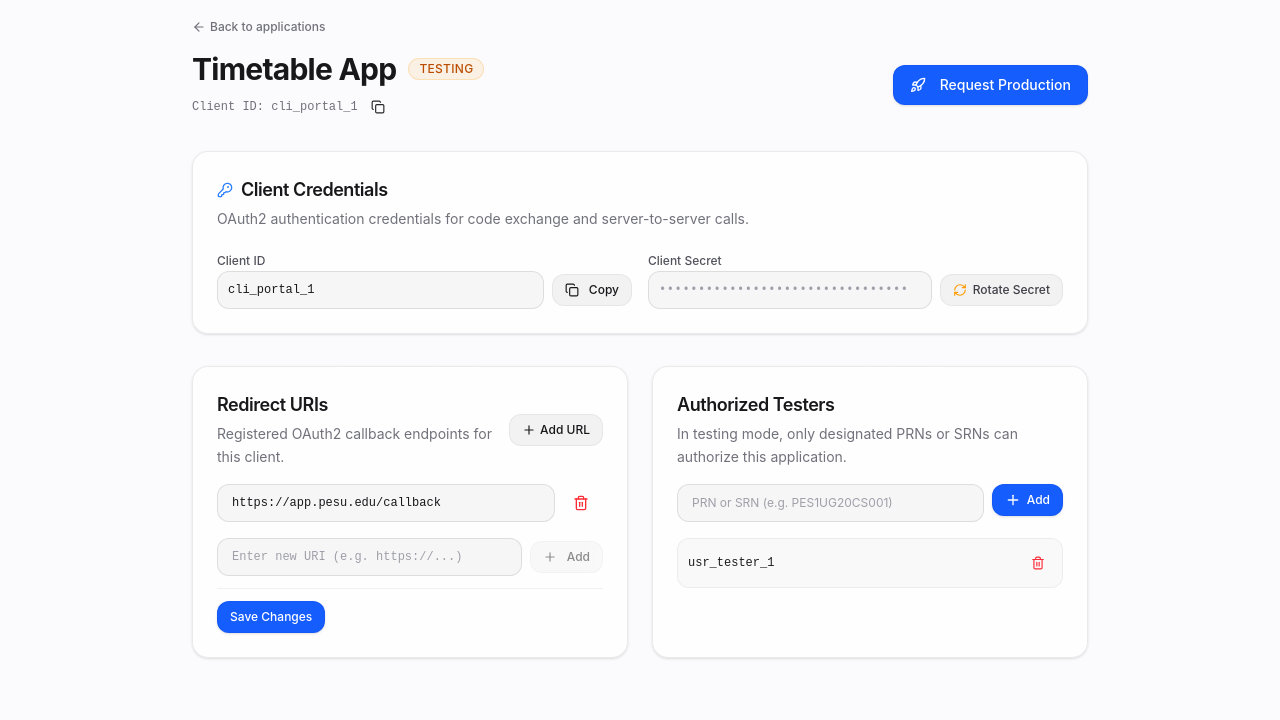
Test: ClientDetailPage Component › handles error when rotating client secret fails
The width and height of the screenshot is (1280, 720).
Expected: the text "Rotate Secret" is shown, 973,282 -> 1050,298
Click the button "Rotate Secret" at [1001, 290], box 940,274 -> 1063,306
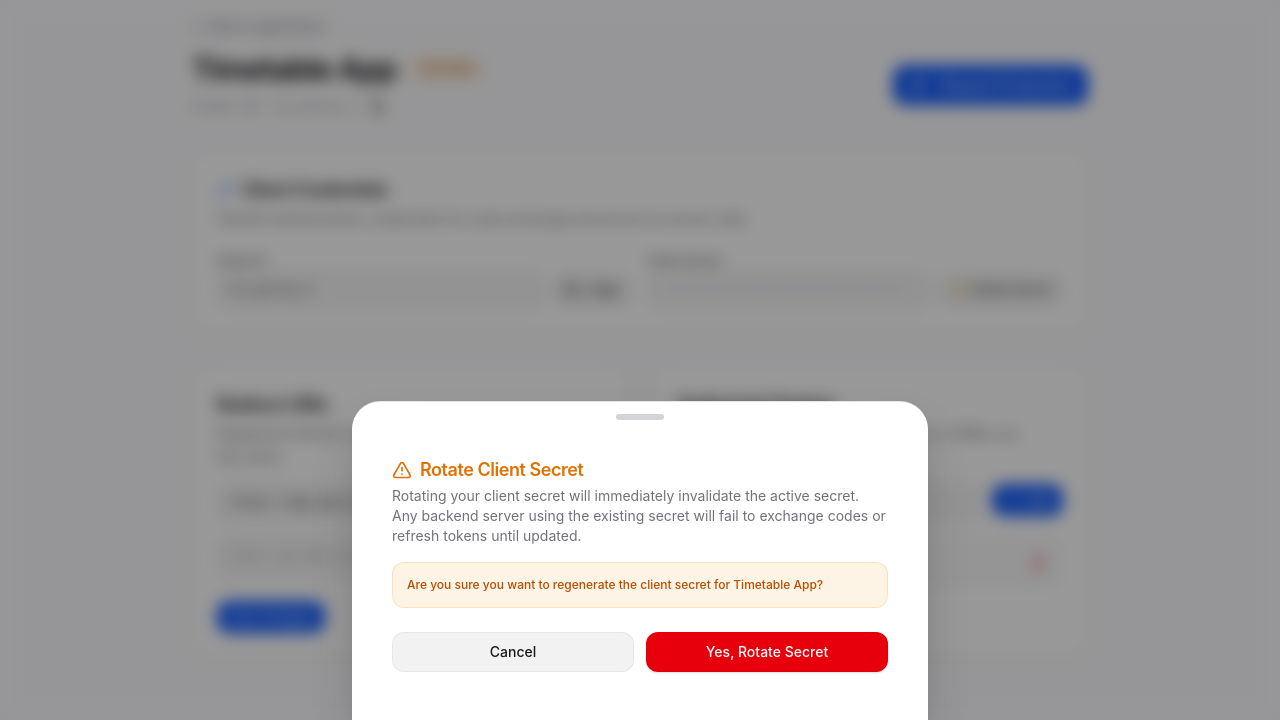
Click the button "Yes, Rotate Secret" at [767, 652], box 646,632 -> 888,672
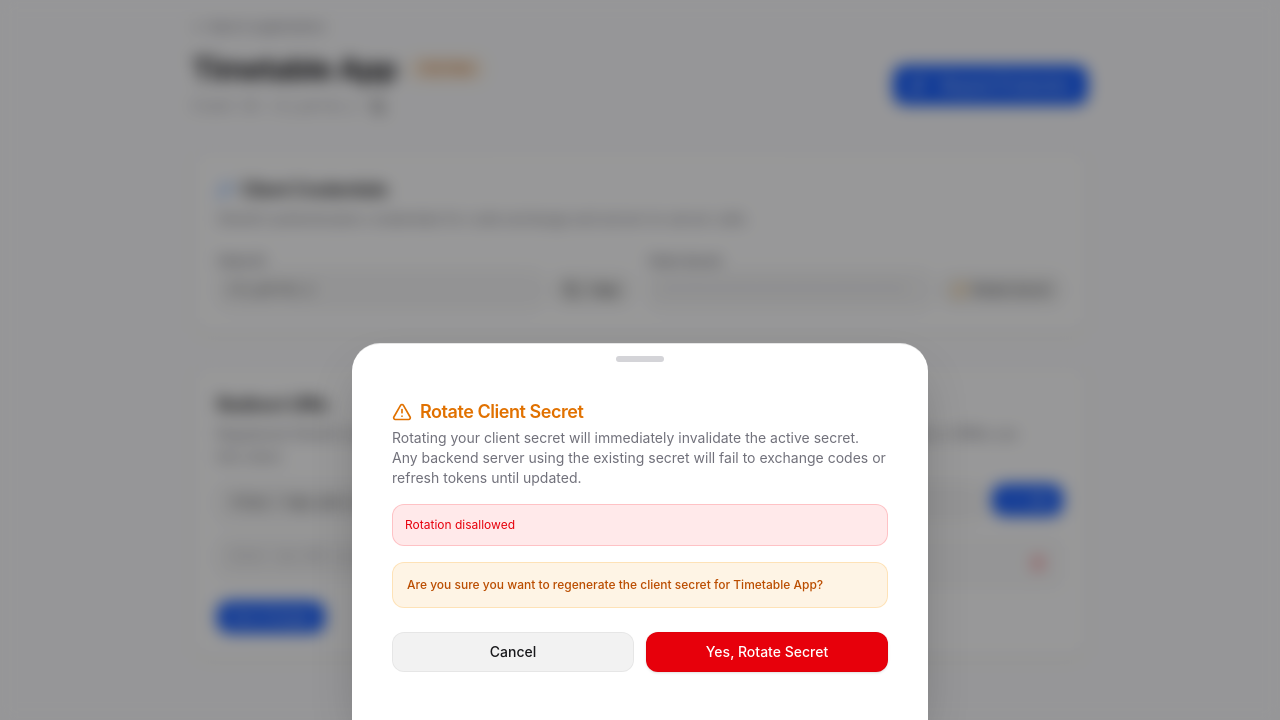
Expected: the text "Rotation disallowed" is shown, 405,517 -> 515,533
